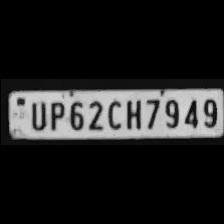2: (84, 97, 104, 130)
4: (180, 95, 200, 129)
6: (64, 98, 84, 130)
7: (142, 96, 160, 130)
9: (160, 96, 180, 130), (199, 96, 219, 128)
C: (104, 97, 122, 130)
H: (122, 96, 142, 130)
P: (44, 99, 64, 131)
U: (26, 98, 46, 130)
